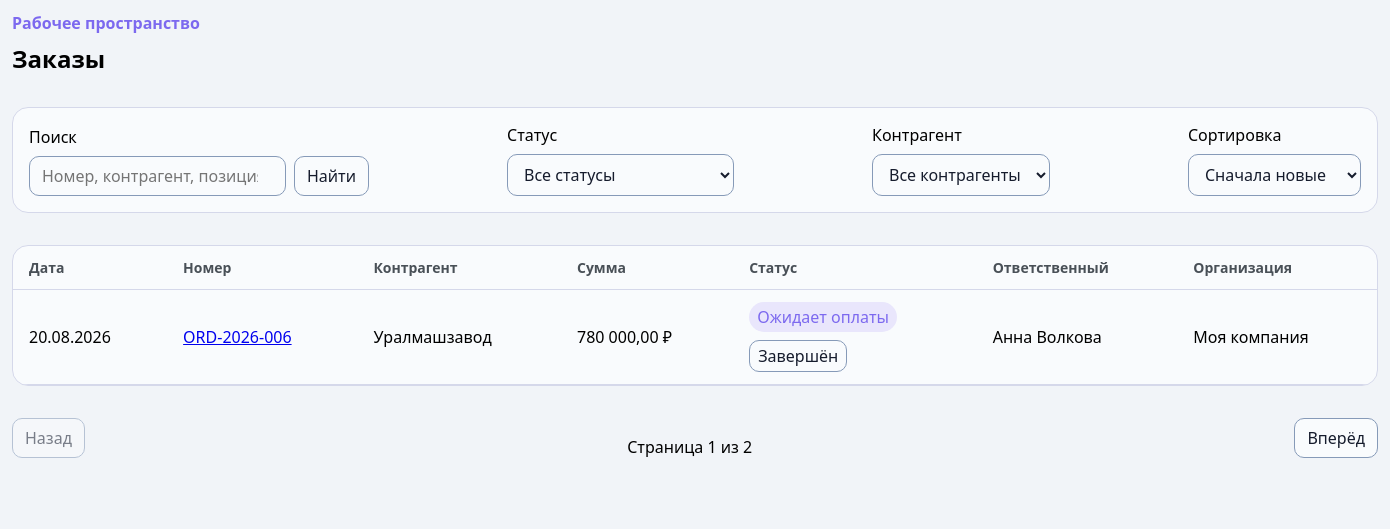
Test: Orders list › keeps the row consistent when a status transition fails
Click the button "Завершён" at [798, 356], box top-left (749, 340), bottom-right (847, 372)
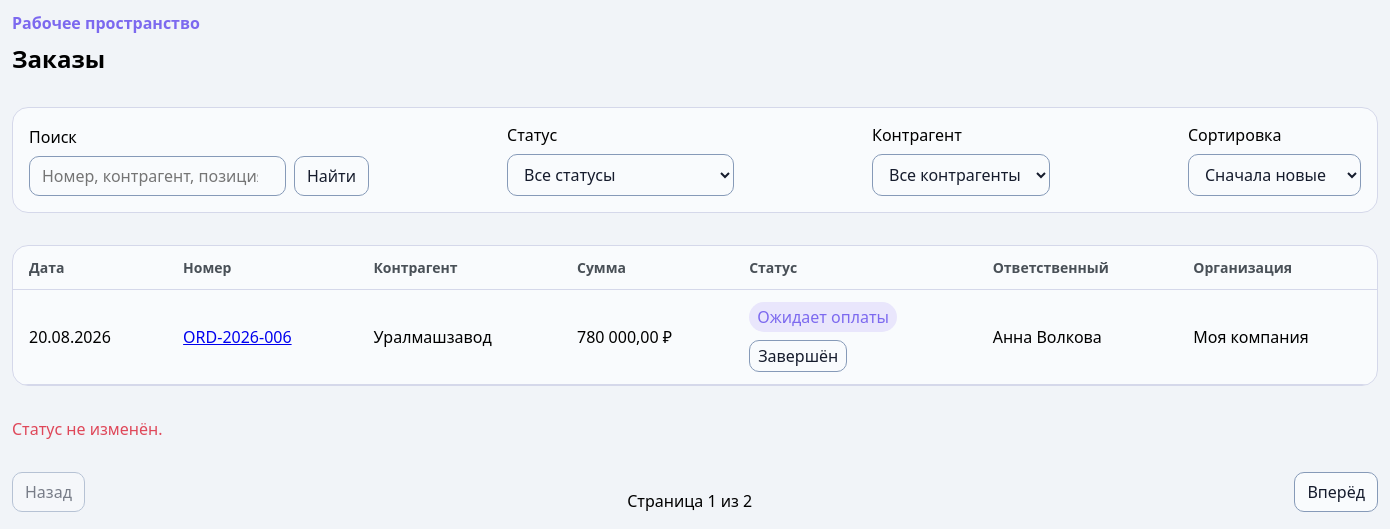
Check: the row that starts with "ORD-2026-006" shows "Ожидает оплаты", box top-left (757, 306), bottom-right (889, 328)
Check: the message "Статус не изменён." is shown, box top-left (12, 418), bottom-right (162, 440)
